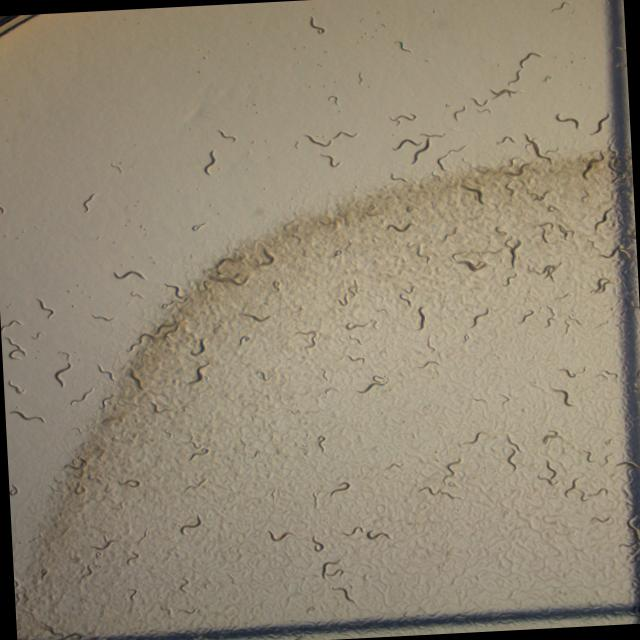filarid: (55, 352, 72, 387), (188, 362, 209, 386), (359, 376, 388, 393), (10, 410, 44, 423), (6, 338, 26, 360), (180, 515, 202, 535), (295, 330, 317, 350), (322, 559, 343, 579), (35, 298, 54, 319), (412, 143, 429, 164), (70, 389, 93, 404), (203, 150, 216, 176), (393, 139, 421, 151), (329, 481, 350, 497), (345, 320, 377, 330), (306, 135, 332, 147), (320, 155, 340, 168), (364, 530, 390, 540), (7, 380, 24, 395), (114, 271, 145, 279), (240, 314, 271, 322), (217, 130, 237, 142), (192, 339, 206, 356), (268, 532, 293, 541), (387, 223, 412, 232), (311, 536, 325, 552), (392, 115, 416, 124), (333, 131, 357, 139), (448, 459, 460, 475), (345, 527, 364, 536), (1, 321, 19, 330), (348, 282, 358, 297), (93, 314, 112, 321), (418, 308, 424, 330), (339, 295, 349, 306), (348, 356, 364, 362), (239, 336, 249, 345), (350, 336, 361, 344), (405, 286, 415, 294), (313, 494, 318, 508), (376, 505, 385, 511), (273, 282, 279, 291), (131, 292, 141, 297), (405, 299, 410, 307), (214, 325, 219, 333), (36, 332, 43, 337), (426, 135, 442, 137), (272, 489, 275, 499)
